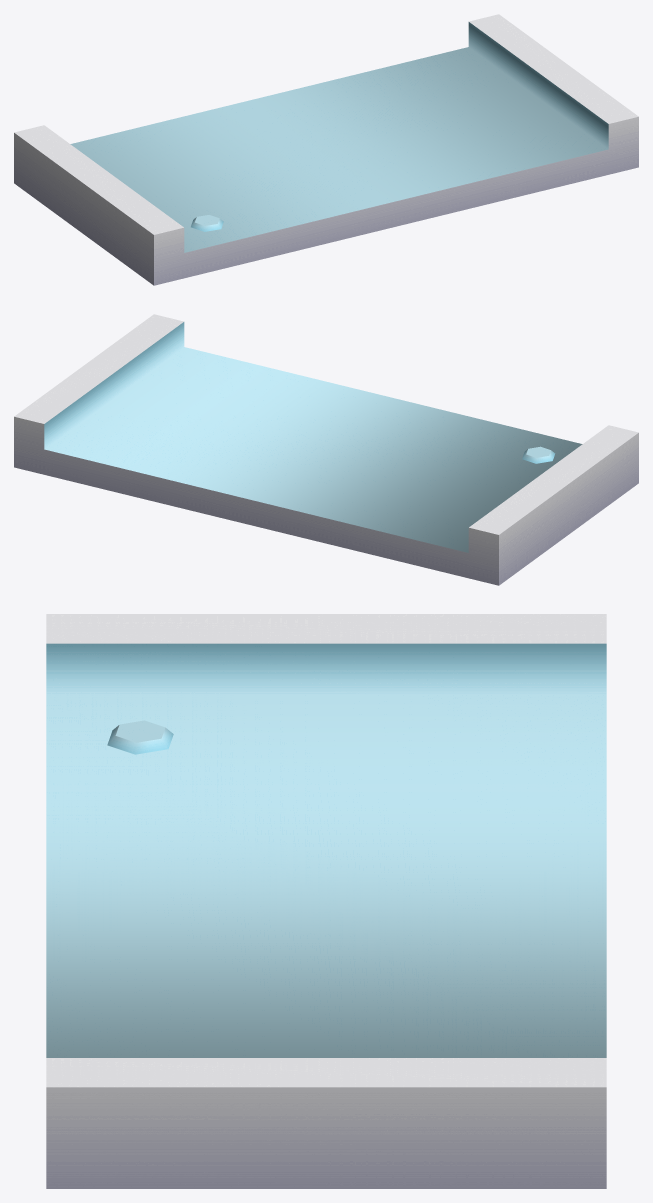
The model's file is snow-tile-wide-straight.glb.
3 views of the same model, one above another, from view 1: azimuth 30°, elevation 25°; view 2: azimuth 150°, elevation 25°; view 3: azimuth 270°, elevation 25° (orthographic). The views are drawn at different scales.
Visible parts, largest first — view 1: snow-tile-wide-straight; view 2: snow-tile-wide-straight; view 3: snow-tile-wide-straight.
Part boxes in pixels (x1,y1,x2,y2): snow-tile-wide-straight: (14,14,638,285); snow-tile-wide-straight: (14,314,638,585); snow-tile-wide-straight: (46,614,606,1188).
Size of the model in its own units: 2 by 0.2 by 1.
1 material, 1 textured.
